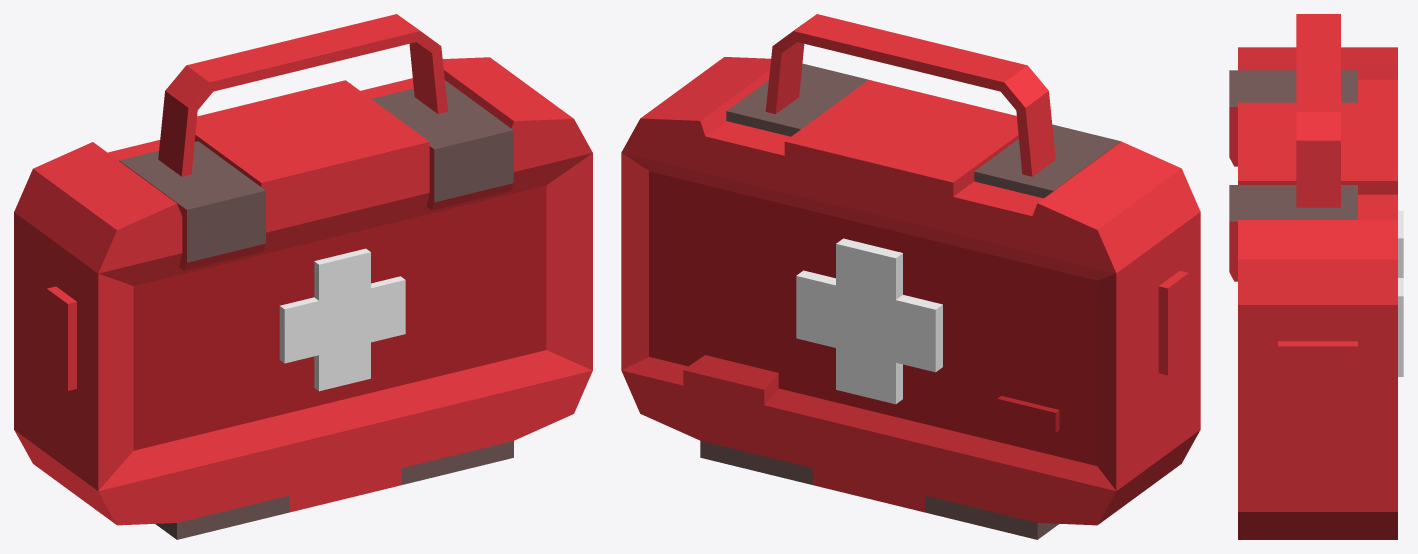
Rendered from medkitlarge.fbx.
The picture shows the model from 3 angles, left to right: view 1: azimuth 30°, elevation 25°; view 2: azimuth 150°, elevation 25°; view 3: azimuth 270°, elevation 25°; orthographic projection. The views are drawn at different scales.
Parts seen in each view (by area): view 1: Cube.001, Plane.006, Plane.007; view 2: Cube.001, Plane.005, Plane.006; view 3: Cube.001, Plane.006, Plane.005.
Boxes of the visible parts, x1,y1,x2,y2 form: Cube.001: [14, 57, 592, 539]; Plane.006: [158, 14, 447, 176]; Plane.007: [279, 248, 405, 391]; Cube.001: [621, 57, 1200, 539]; Plane.005: [796, 238, 942, 404]; Plane.006: [765, 14, 1055, 176]; Cube.001: [1229, 47, 1397, 539]; Plane.006: [1296, 14, 1340, 207]; Plane.005: [1398, 210, 1403, 376].
Size of the model in its own units: 489 by 389 by 154.
